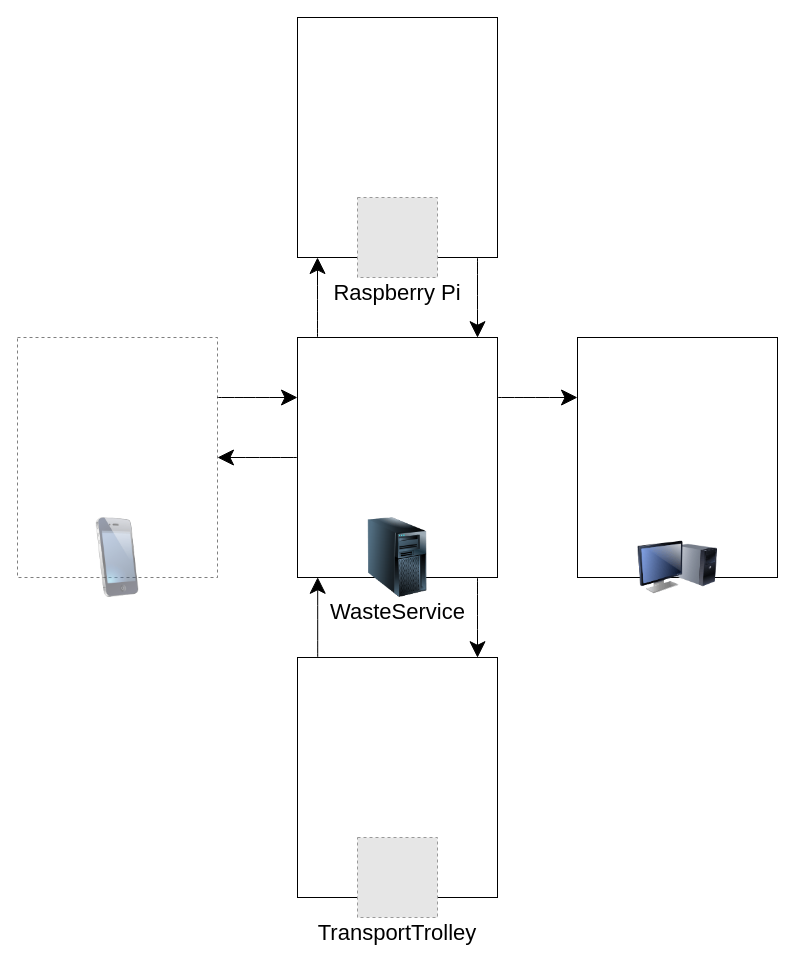
This 795x963 diagram has some shape labels left out. Grey dashed boxes stand in for pictures. Each missing label, with the centre of its shape:
"SmartDevice" belongs at point 117,557.
"WasteServiceStatus" belongs at point 677,567.
